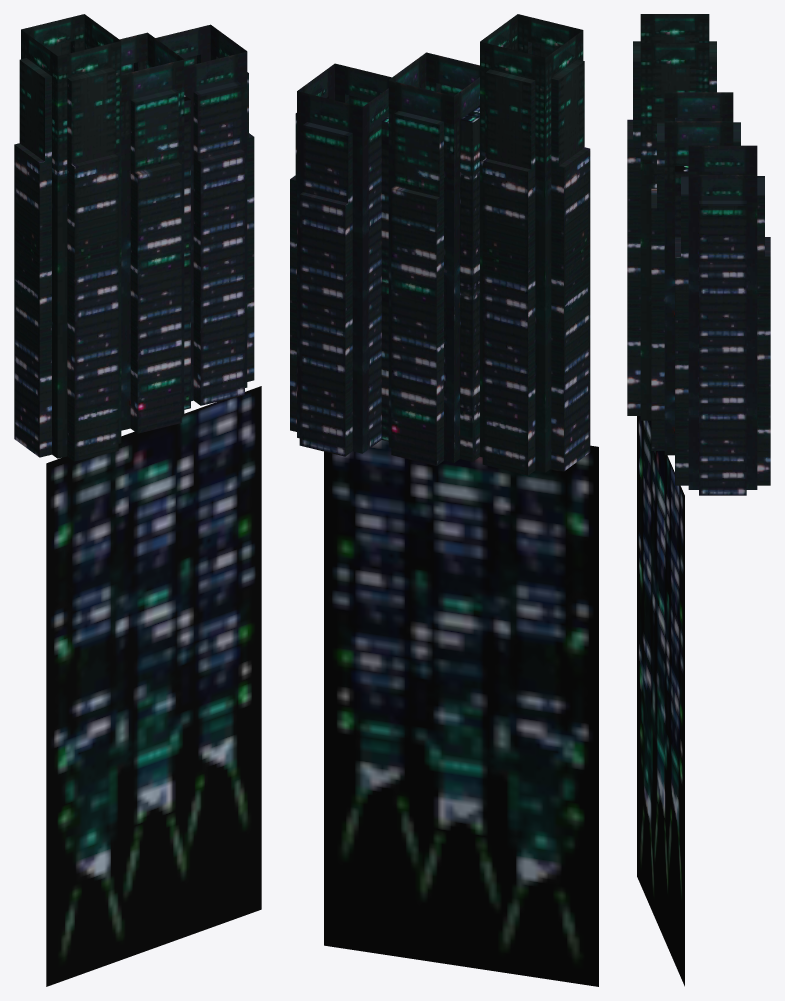
The model's file is tok_tier3_building_shinjukuparktower.fbx.
The picture shows the model from 3 angles, left to right: view 1: azimuth 30°, elevation 25°; view 2: azimuth 150°, elevation 25°; view 3: azimuth 270°, elevation 25°; orthographic projection. The views are drawn at different scales.
Parts seen in each view (by area): view 1: tok_tier3_building_shinjukuparktower_pivot_tok_tier3_buildin (×2); view 2: tok_tier3_building_shinjukuparktower_pivot_tok_tier3_buildin (×2); view 3: tok_tier3_building_shinjukuparktower_pivot_tok_tier3_buildin (×2).
Part boxes in pixels (<box>): tok_tier3_building_shinjukuparktower_pivot_tok_tier3_buildin (×2): <box>14,14,261,986</box>; tok_tier3_building_shinjukuparktower_pivot_tok_tier3_buildin (×2): <box>290,14,598,986</box>; tok_tier3_building_shinjukuparktower_pivot_tok_tier3_buildin (×2): <box>627,14,770,986</box>.
Size of what is drawn, in the model's own units: 136 by 75.04 by 501.
